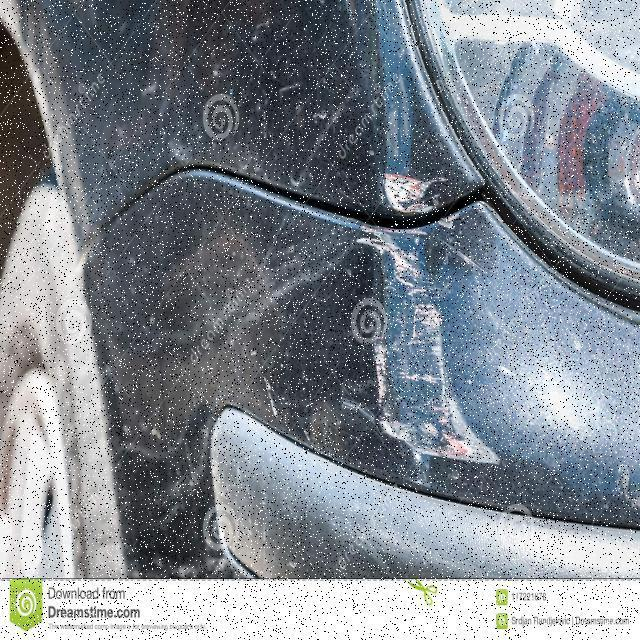front-bumper-dent: (64, 155, 640, 582)
